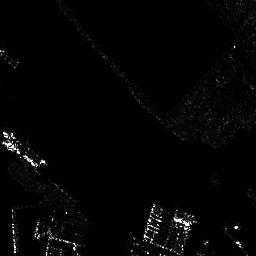ship: (2, 131, 47, 165)
